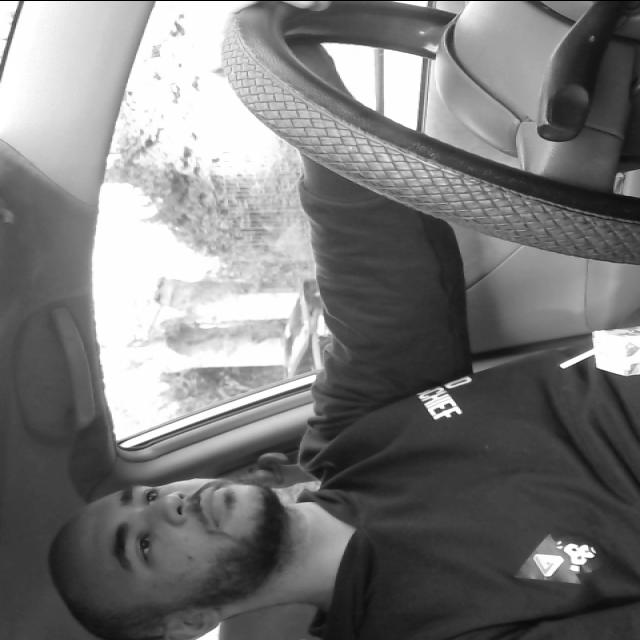drinking: (547, 326, 640, 381)
